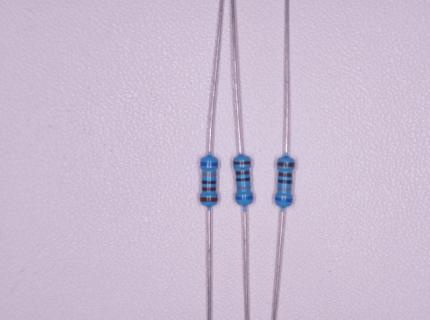Black band: (202, 180, 216, 184), (278, 180, 292, 184), (236, 178, 250, 182)
Blue band: (275, 197, 292, 202), (201, 162, 217, 166), (236, 196, 253, 199)
Brown band: (277, 162, 295, 167), (200, 197, 217, 202), (278, 172, 292, 177), (202, 187, 216, 191), (236, 171, 249, 175), (233, 161, 250, 164)
Grey band: (202, 172, 216, 176), (278, 187, 291, 191), (237, 186, 250, 189)
